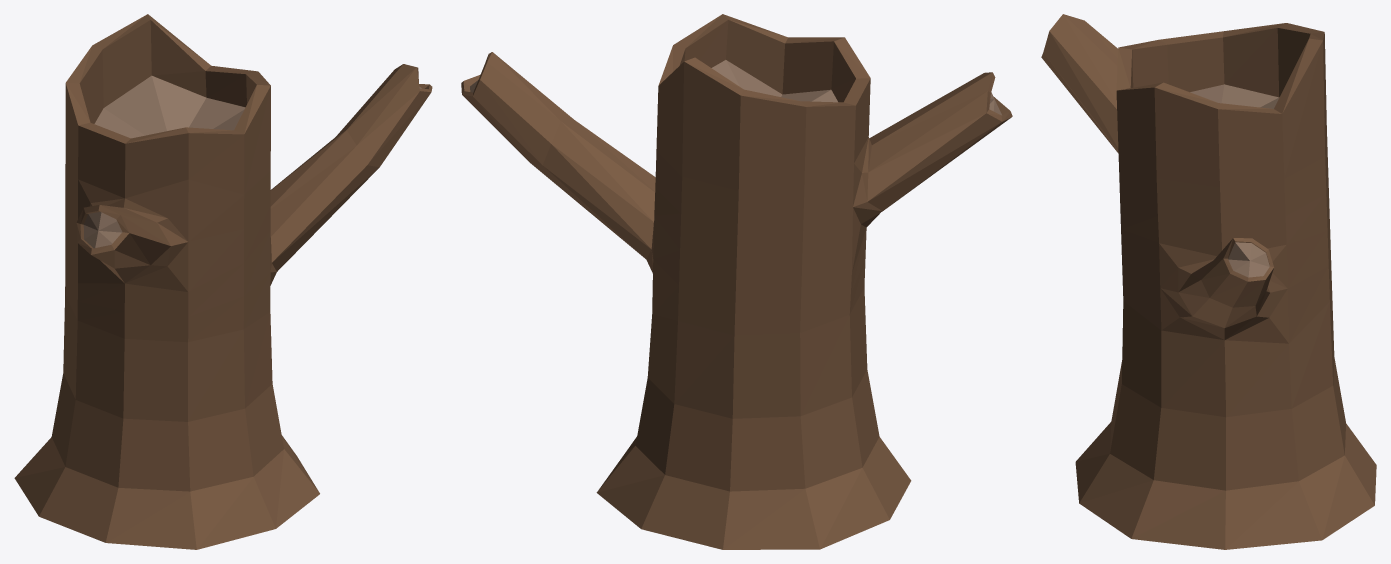
Rendered from Tree-trunk-3.fbx.
3 views of the same model, side by side, from view 1: azimuth 30°, elevation 25°; view 2: azimuth 150°, elevation 25°; view 3: azimuth 270°, elevation 25° (orthographic). The views are drawn at different scales.
Visible parts, largest first — view 1: Boomstam_3; view 2: Boomstam_3; view 3: Boomstam_3.
Part boxes in pixels (left/top/right/bottom): Boomstam_3: left=14, top=14, right=432, bottom=549; Boomstam_3: left=461, top=14, right=1012, bottom=549; Boomstam_3: left=1041, top=14, right=1376, bottom=549.
Size of the model in its own units: 372 by 353 by 235.
Materials: 1 (1 with a texture image).
